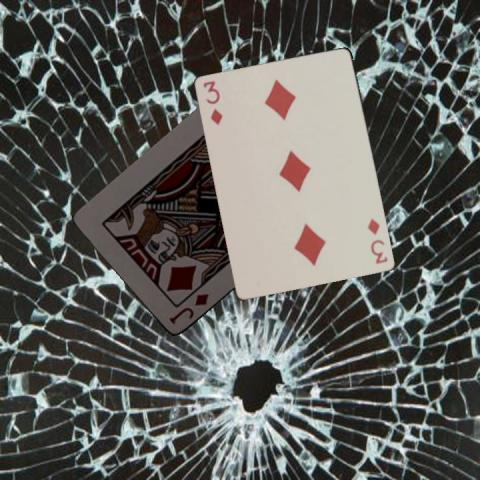3d: (365, 216, 389, 266), (201, 78, 224, 127)
Jd: (165, 291, 210, 326)
